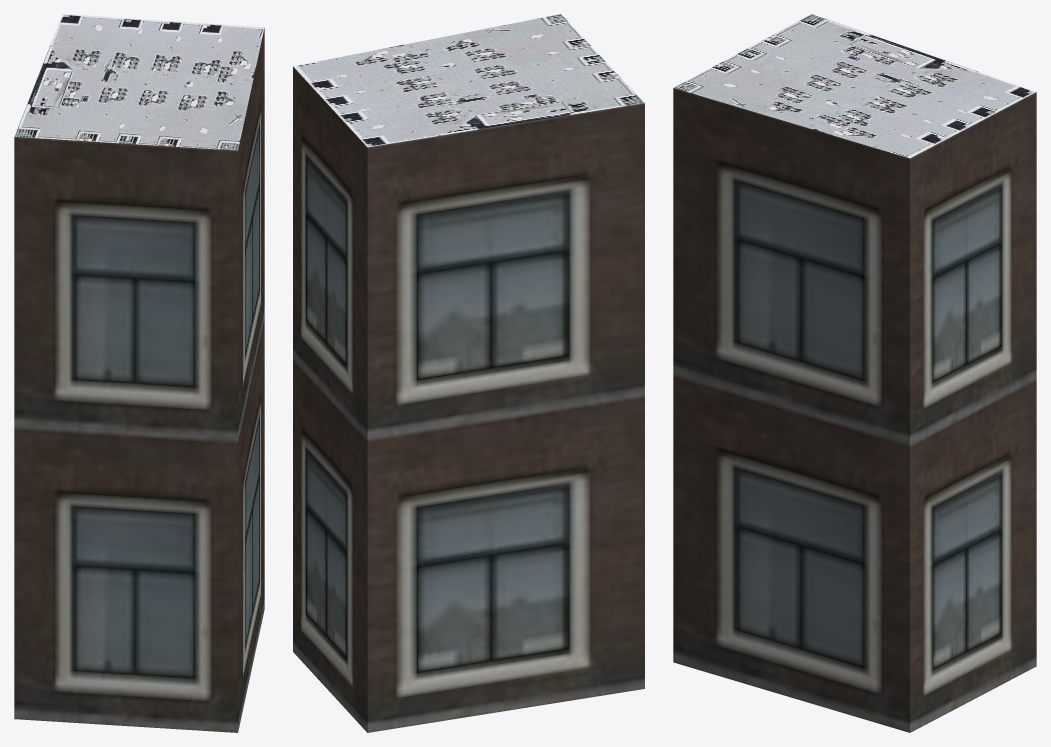
File: ResTex__4824.fbx
3 views of the same model, side by side, from view 1: azimuth 30°, elevation 25°; view 2: azimuth 150°, elevation 25°; view 3: azimuth 270°, elevation 25° (orthographic).
Parts seen in each view (by area): view 1: CityEngineMaterial_16_m, CityEngineMaterial_15_m; view 2: CityEngineMaterial_16_m, CityEngineMaterial_15_m; view 3: CityEngineMaterial_16_m, CityEngineMaterial_15_m.
Boxes of the visible parts, x1=… form: CityEngineMaterial_16_m: x1=14, y1=28, x2=264, y2=732; CityEngineMaterial_15_m: x1=14, y1=14, x2=264, y2=150; CityEngineMaterial_16_m: x1=293, y1=66, x2=644, y2=732; CityEngineMaterial_15_m: x1=293, y1=14, x2=644, y2=147; CityEngineMaterial_16_m: x1=673, y1=88, x2=1036, y2=732; CityEngineMaterial_15_m: x1=674, y1=14, x2=1035, y2=158.
Size of the model in its own units: 3.24 by 6 by 3.44.
2 materials, 2 textured.
